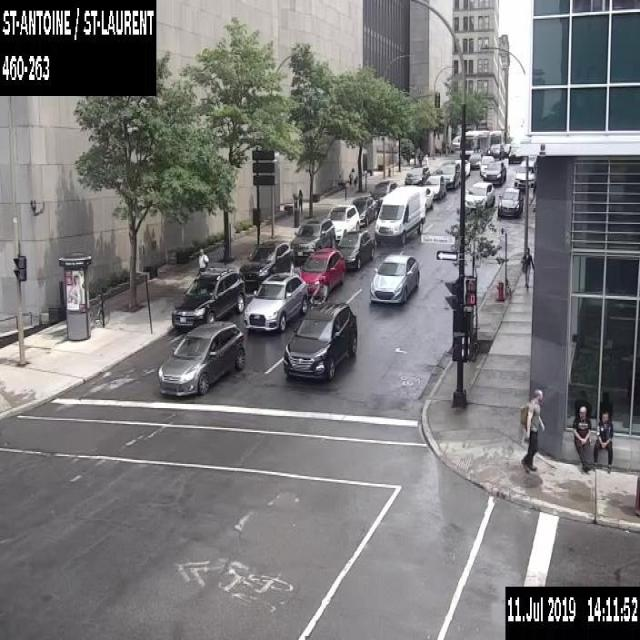bus: (459, 128, 502, 158)
cyclist: (309, 276, 327, 307)
pedestrian: (521, 386, 544, 474), (572, 404, 591, 473), (592, 410, 612, 473), (519, 245, 531, 288), (196, 247, 208, 271), (348, 166, 356, 190), (297, 187, 303, 213), (423, 152, 428, 164)
vehicle: (158, 320, 245, 396), (282, 301, 357, 378), (171, 266, 244, 328), (242, 271, 308, 332), (374, 184, 424, 243), (238, 239, 294, 289), (369, 252, 419, 304), (298, 246, 345, 296), (289, 216, 335, 265), (336, 229, 374, 269), (326, 204, 358, 240), (368, 180, 397, 208), (497, 186, 523, 216), (351, 195, 377, 224), (436, 161, 460, 188), (513, 160, 536, 188), (482, 160, 506, 184), (424, 174, 446, 198), (404, 164, 429, 184), (478, 154, 493, 176), (453, 158, 470, 177), (467, 150, 484, 168), (507, 144, 523, 163), (420, 185, 433, 208), (486, 142, 504, 158), (502, 142, 512, 156)
